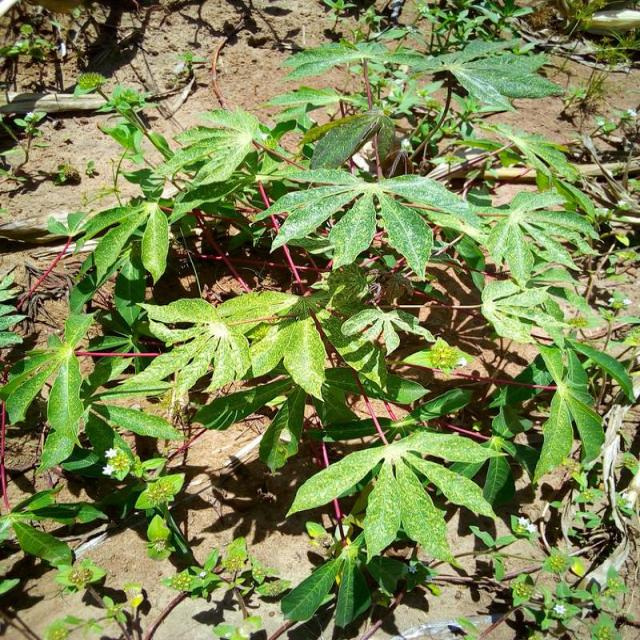cassava leaf: (3, 15, 637, 634), (284, 426, 510, 570)
